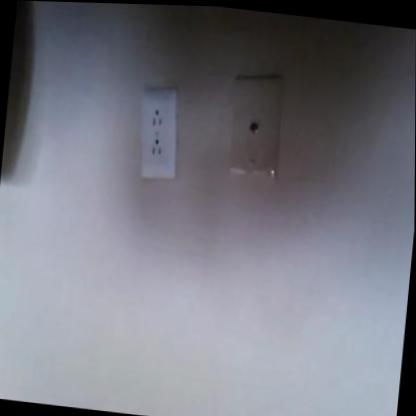OUTLET: (134, 87, 183, 181)
